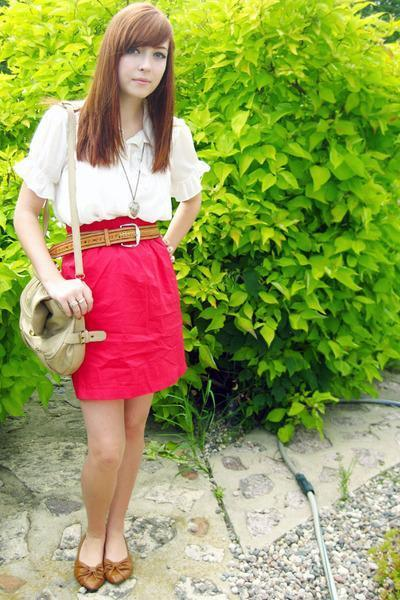bag: (19, 262, 105, 382)
shirt: (13, 100, 205, 234)
shoe: (73, 537, 145, 593)
skirt: (60, 216, 186, 400)
